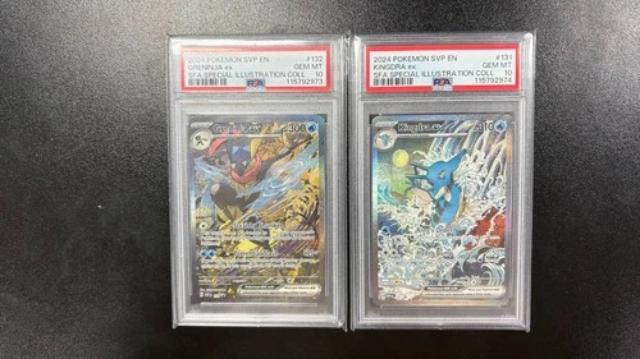Card: (367, 111, 513, 310), (183, 111, 328, 307)
Name: (209, 120, 267, 139), (395, 118, 450, 137)
